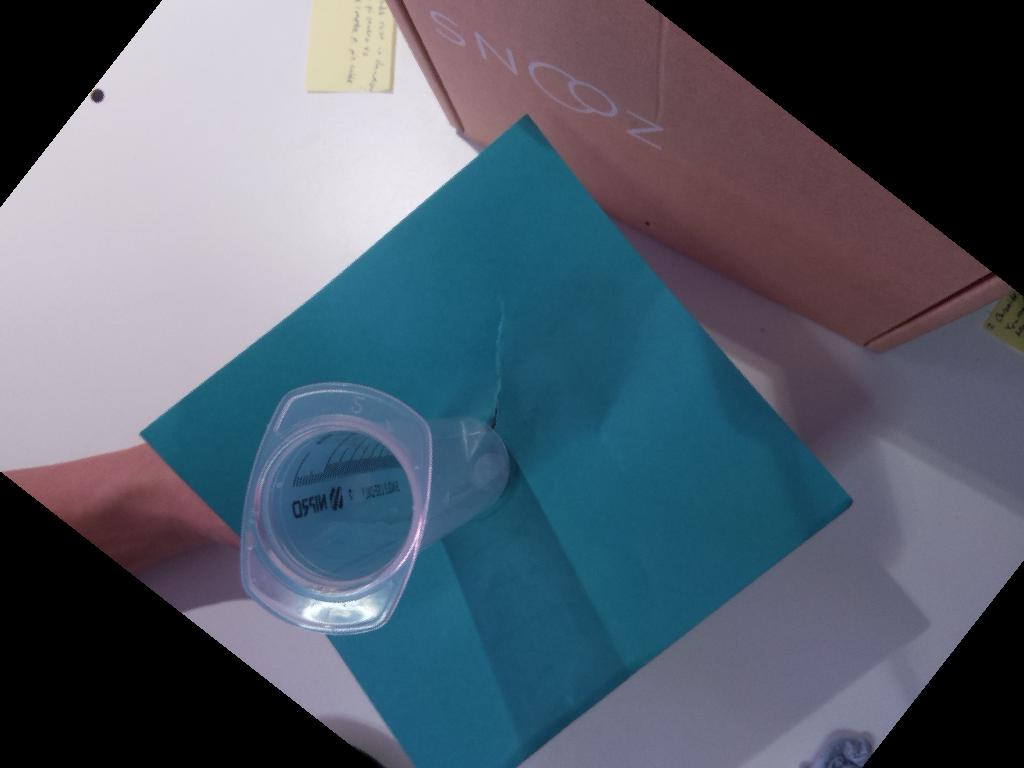clean: (238, 378, 433, 635)
